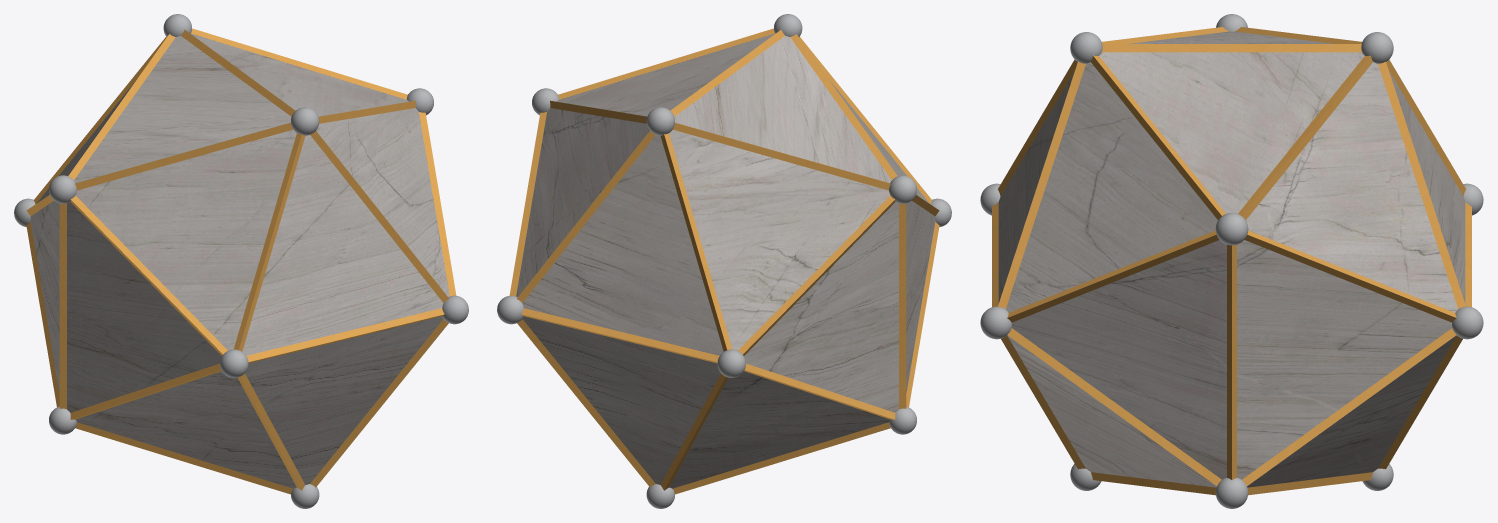
Rendered from icosaedrov2.glb.
3 renders of one model, left to right at view 1: azimuth 30°, elevation 25°; view 2: azimuth 150°, elevation 25°; view 3: azimuth 270°, elevation 25°, orthographic. The views are drawn at different scales.
Visible parts, largest first — view 1: Icosaedro, Icosaedro.001, Sphere.047, Sphere.046, Sphere.045, Sphere.048, Sphere.049, Sphere.043, Sphere.044; view 2: Icosaedro, Icosaedro.001, Sphere.042, Sphere.044, Sphere.045, Sphere.038, Sphere.049, Sphere.039, Sphere.046; view 3: Icosaedro, Icosaedro.001, Sphere.041, Sphere.040, Sphere.038, Sphere.048, Sphere.044, Sphere.046.
Boxes of the visible parts, left/top/right/bottom form: Icosaedro: left=30, top=33, right=449, bottom=488; Icosaedro.001: left=26, top=28, right=456, bottom=494; Sphere.047: left=220, top=349, right=248, bottom=377; Sphere.046: left=291, top=107, right=319, bottom=135; Sphere.045: left=49, top=175, right=76, bottom=203; Sphere.048: left=442, top=295, right=468, bottom=324; Sphere.049: left=49, top=406, right=76, bottom=434; Sphere.043: left=291, top=484, right=319, bottom=508; Sphere.044: left=163, top=14, right=191, bottom=36; Icosaedro: left=516, top=33, right=935, bottom=488; Icosaedro.001: left=509, top=28, right=939, bottom=494; Sphere.042: left=717, top=349, right=745, bottom=377; Sphere.044: left=646, top=107, right=674, bottom=135; Sphere.045: left=889, top=175, right=916, bottom=203; Sphere.038: left=497, top=295, right=523, bottom=324; Sphere.049: left=889, top=406, right=916, bottom=434; Sphere.039: left=646, top=484, right=674, bottom=508; Sphere.046: left=774, top=14, right=802, bottom=36; Icosaedro: left=998, top=31, right=1465, bottom=487; Icosaedro.001: left=992, top=27, right=1471, bottom=495; Sphere.041: left=1215, top=212, right=1248, bottom=245; Sphere.040: left=1215, top=478, right=1248, bottom=508; Sphere.038: left=1452, top=306, right=1483, bottom=339; Sphere.048: left=980, top=306, right=1011, bottom=339; Sphere.044: left=1361, top=32, right=1393, bottom=63; Sphere.046: left=1070, top=32, right=1102, bottom=63.
Bounding box in the file's own units: 1.82 × 1.82 × 1.82.
Materials: 14 (14 with a texture image).
